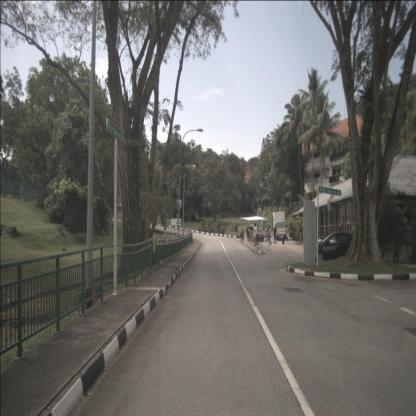human-pedestrian-adult: (251, 223, 259, 249), (267, 225, 272, 246), (255, 224, 259, 248), (253, 225, 257, 246), (273, 225, 277, 243), (246, 226, 250, 242), (240, 229, 244, 242), (273, 226, 276, 240), (286, 221, 288, 233)
vehicle-car: (312, 232, 361, 267), (247, 224, 264, 242)
vehicle-truck: (272, 211, 286, 241)
